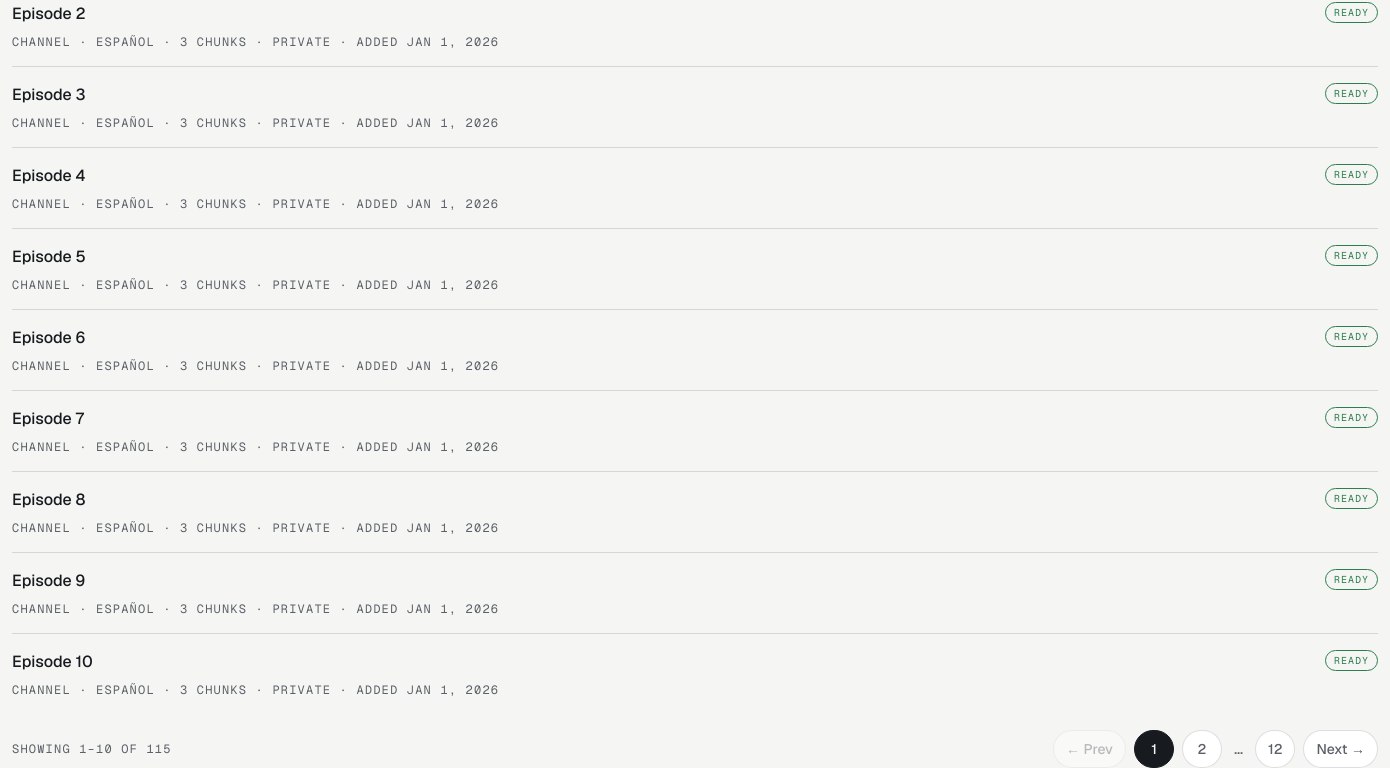
it: VideoList › goes back to page 1 when the per-page size changes
(page scrolled)
expect the text "Showing 1–10 of 115" is shown: met, box [12,741,172,757]
Click the button named "Page 2": (1202, 749) [1182,730,1222,767]
(page scrolled)
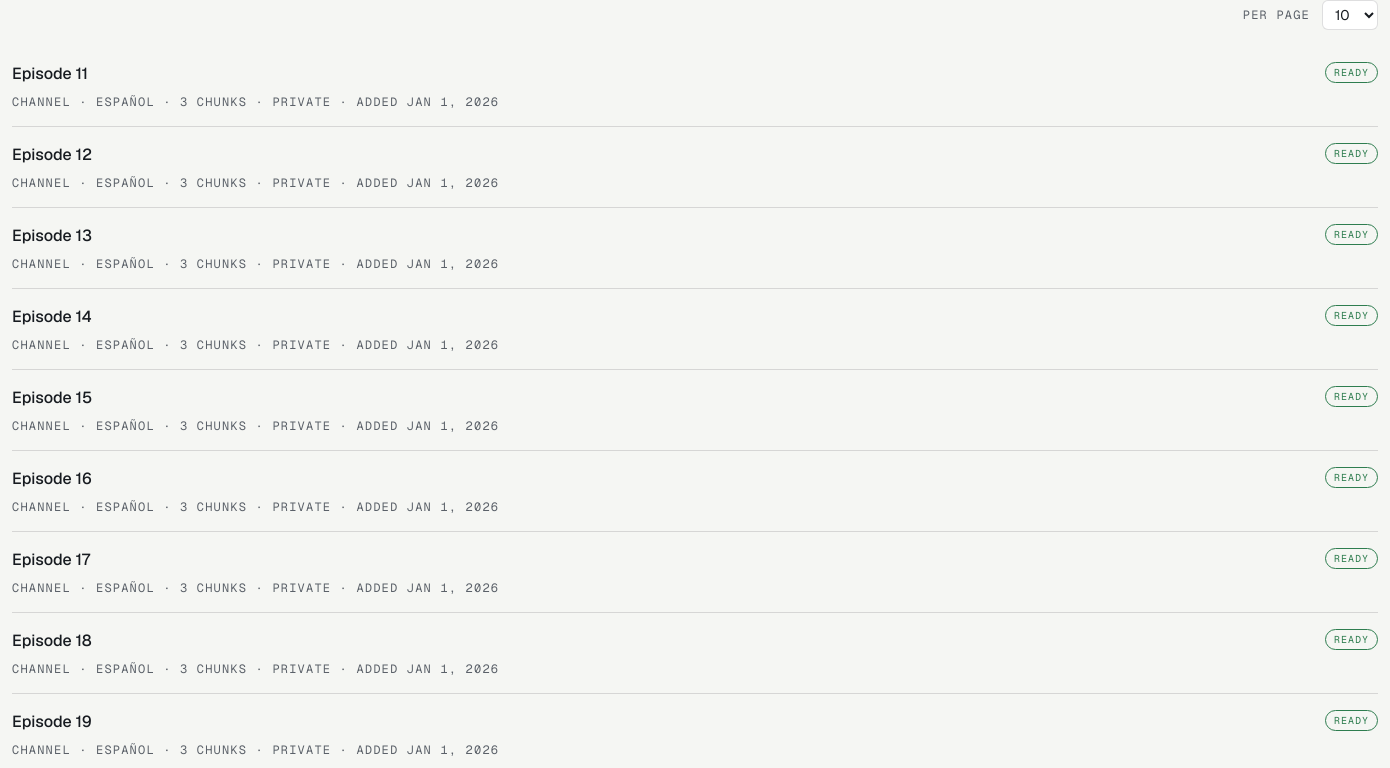
Select "25" in the dropdown labelled "Per page": (1350, 15) [1322,0,1378,30]
(page scrolled)
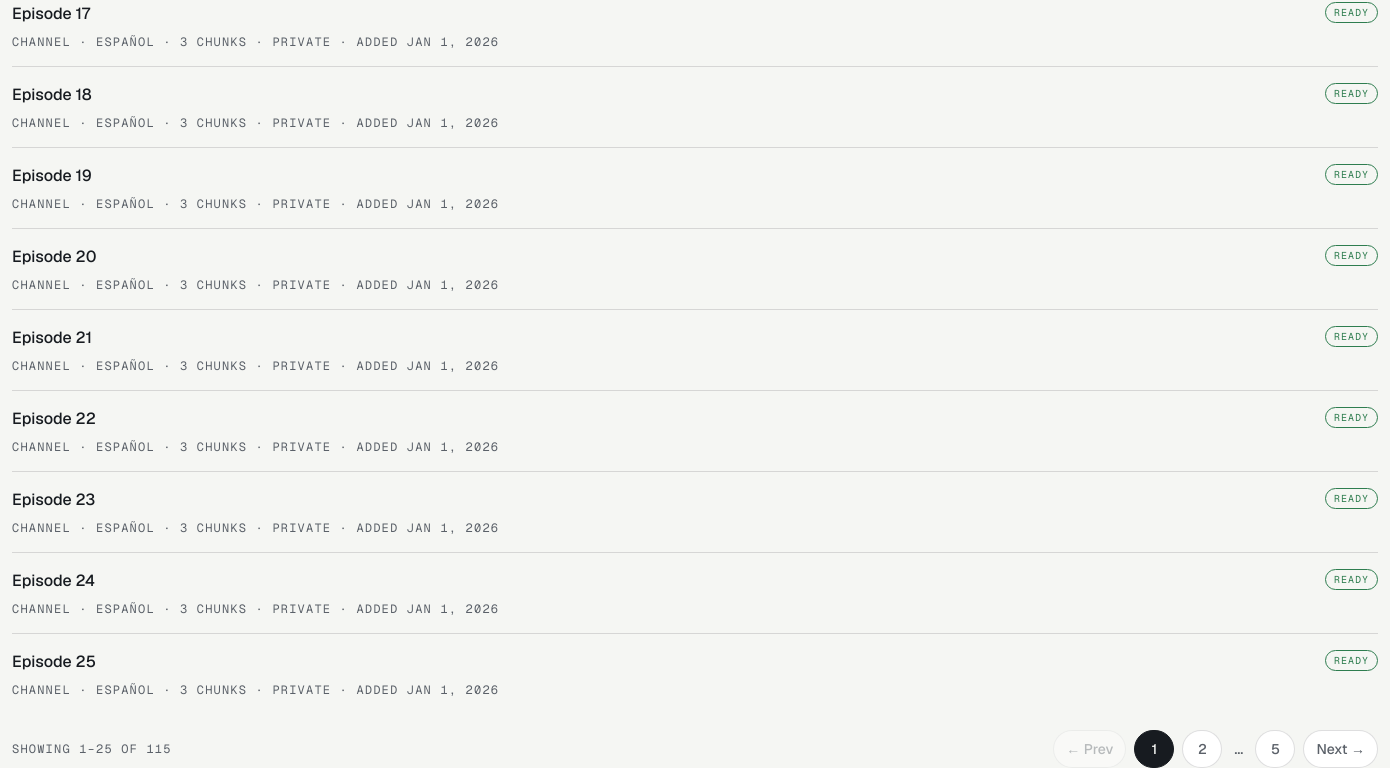
expect the text "Showing 1–25 of 115" is shown: met, box [12,741,172,757]
